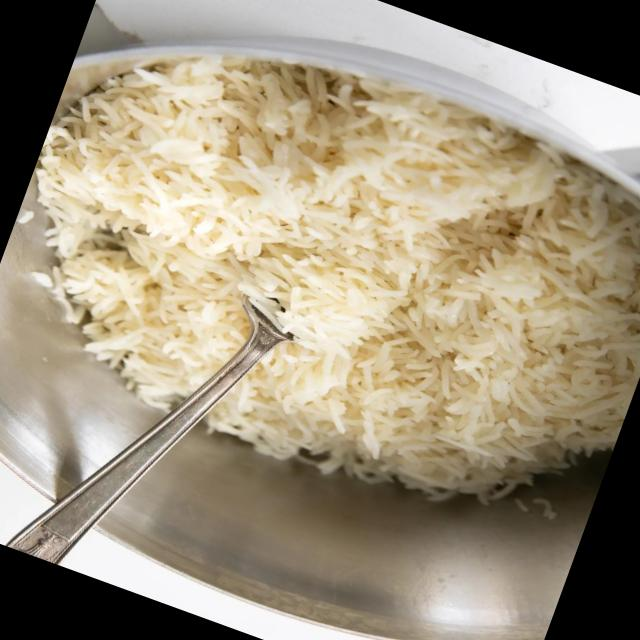rice: (40, 56, 640, 491)
